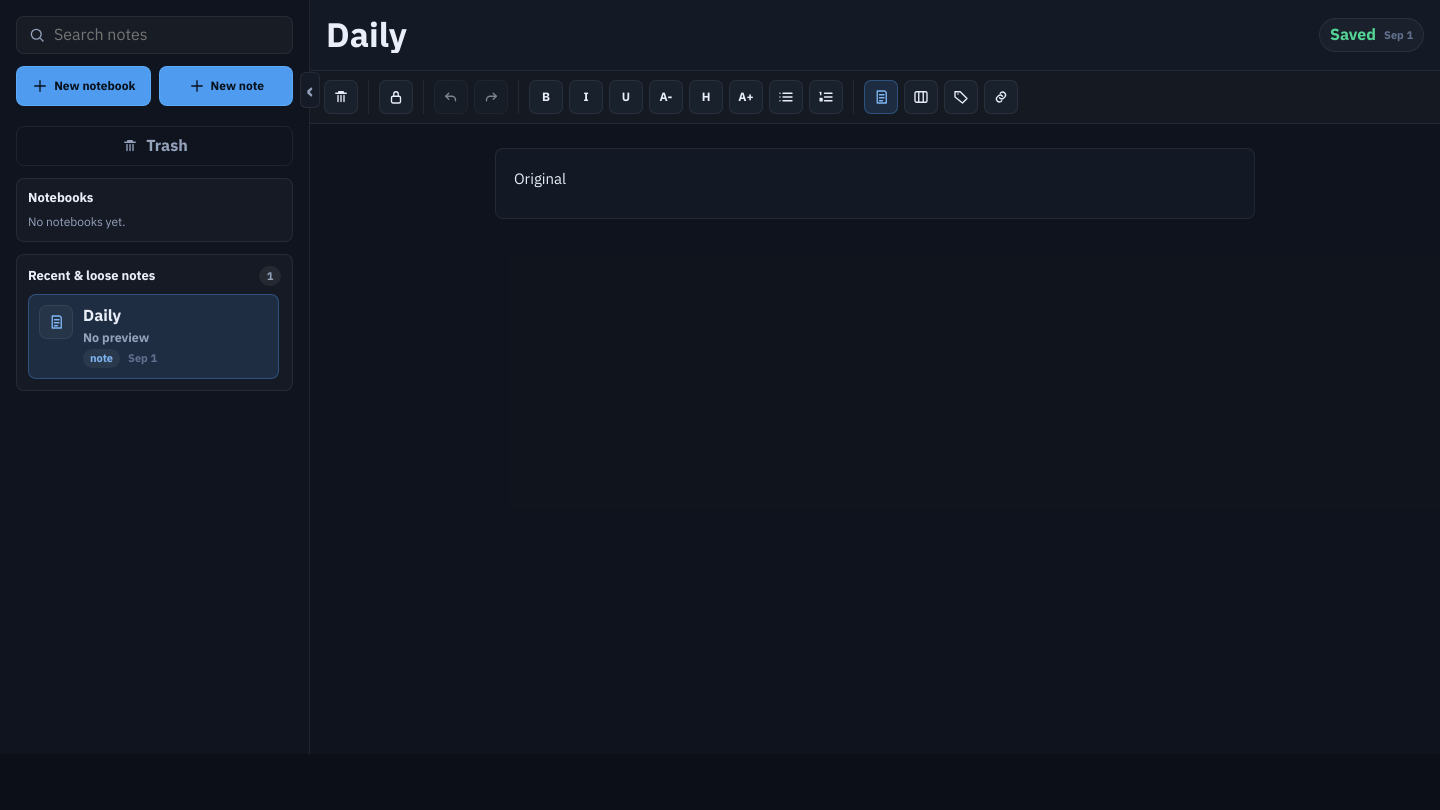
Scenario: ProfileNotesPage › returns to the notes browser when deleting a note without a notebook
Expected: the field named "Note body" is shown, left=495, top=148, right=1255, bottom=219
Click the button named "Delete note" at (341, 97), box left=324, top=80, right=358, bottom=114
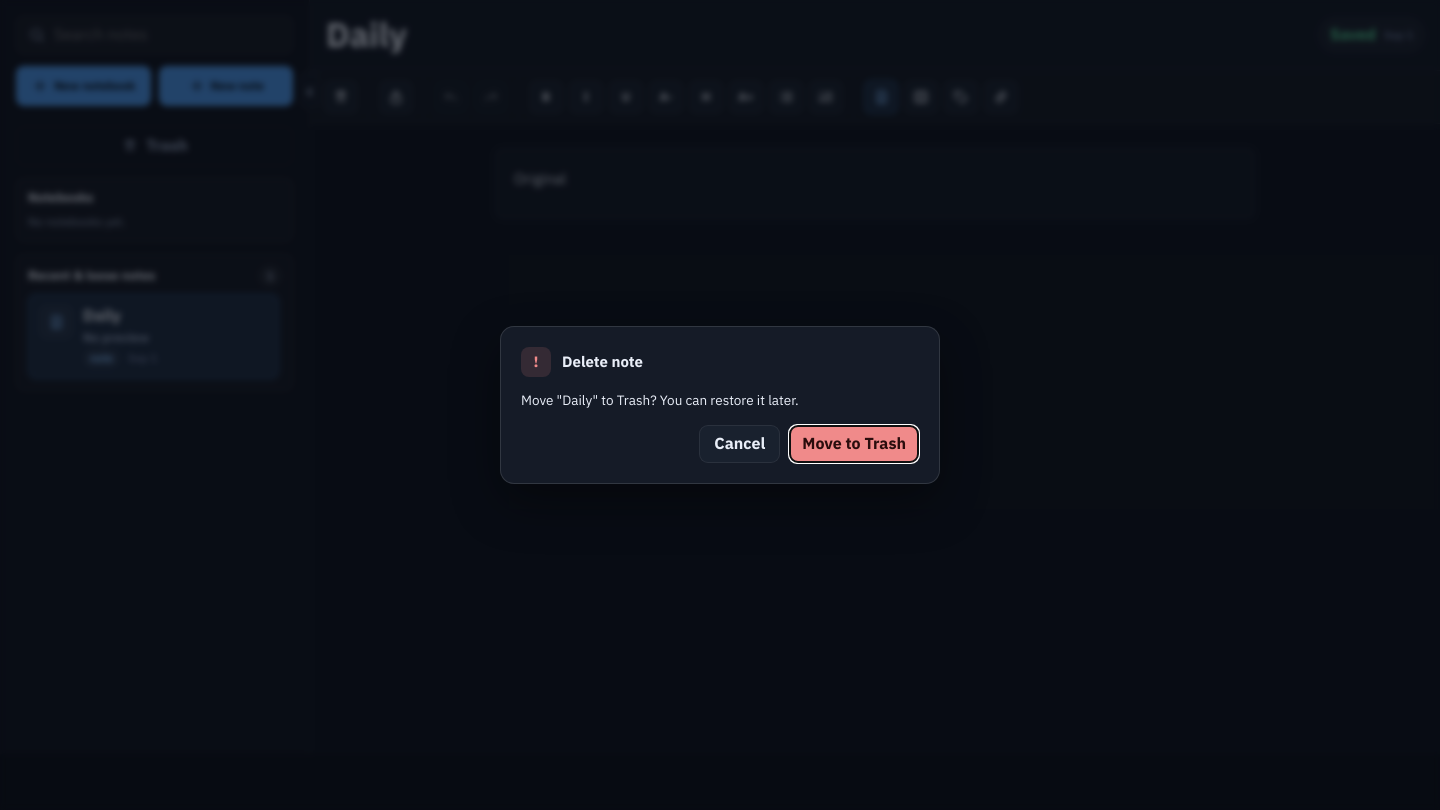
Click the button "Move to Trash" at (854, 444), box left=789, top=425, right=919, bottom=463
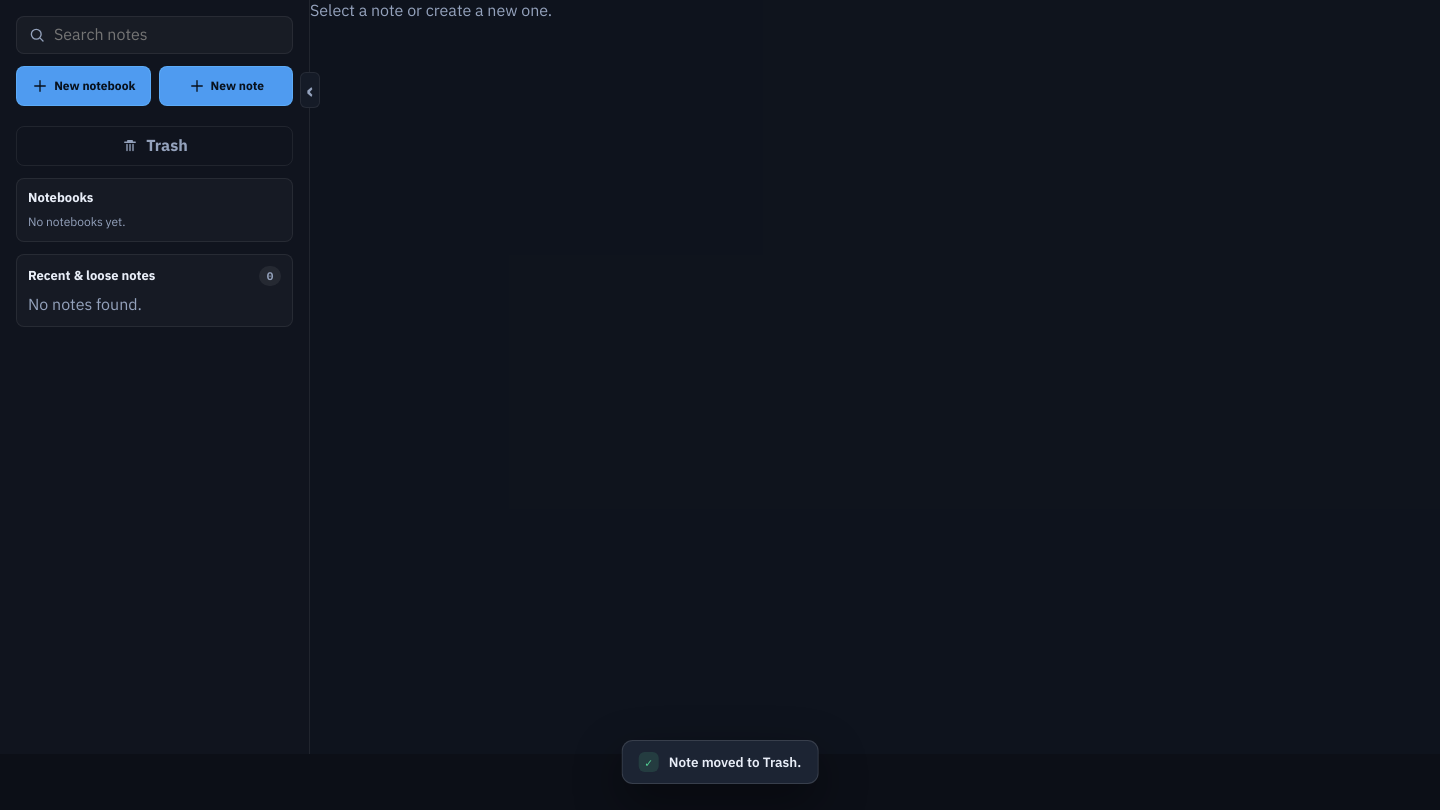
Expected: the field labelled "Note title" is not shown
Expected: the element named "Notes browser" is shown
